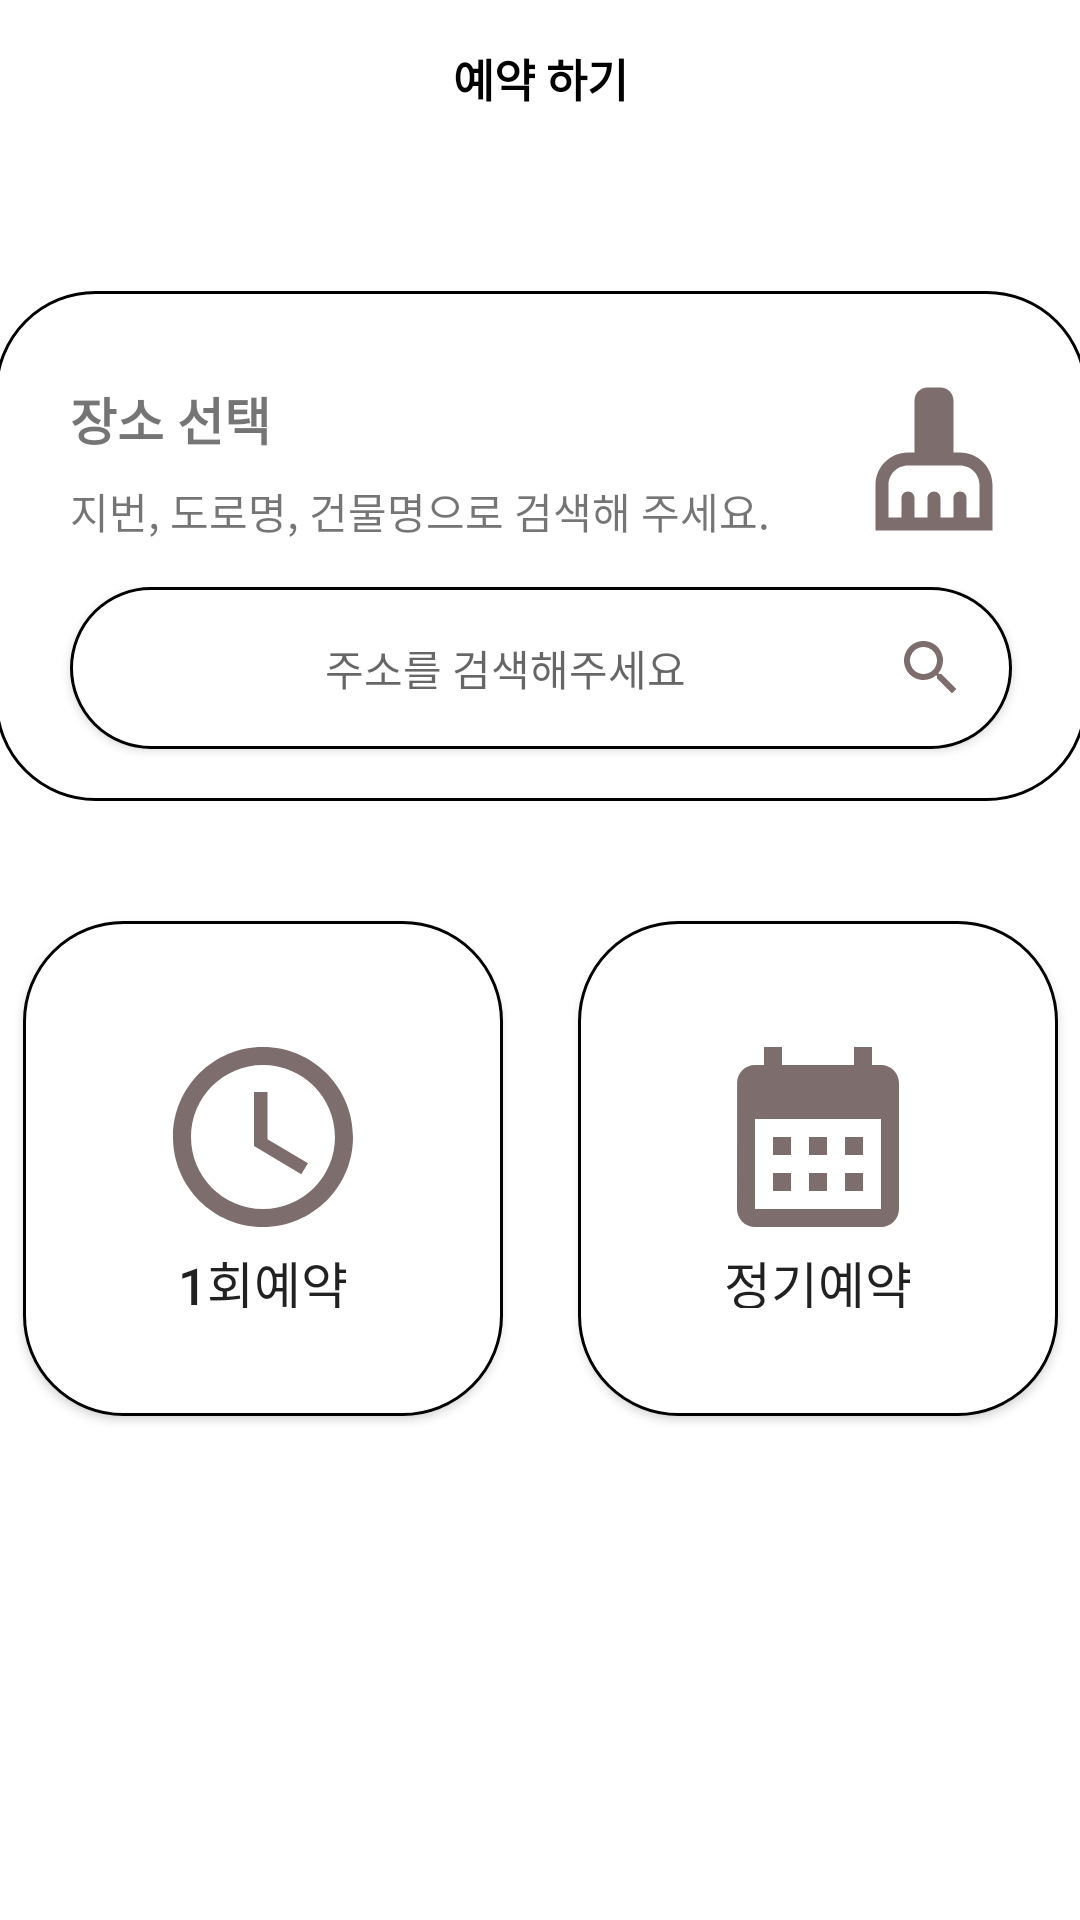

Icon bounding boxes for this 1080px x 1920px phone screenshot, format (x1, y1, x2, y2):
cleaning services: (875, 387, 993, 531)
